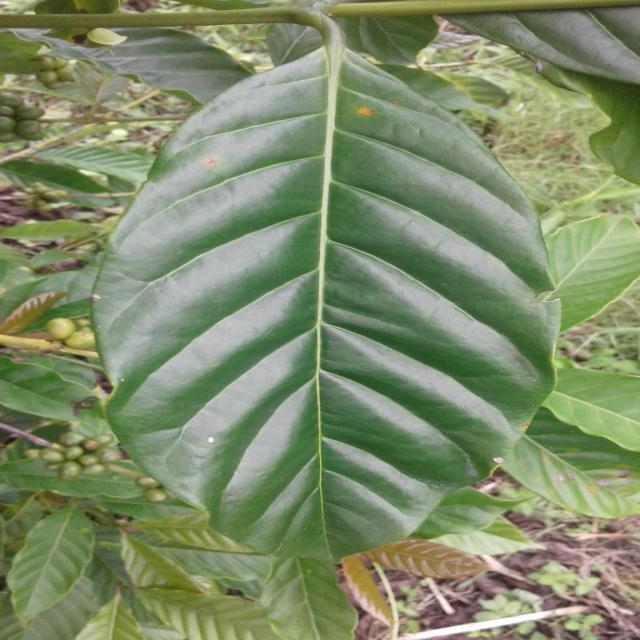Enfermedad-Roya: (92, 48, 562, 578)
